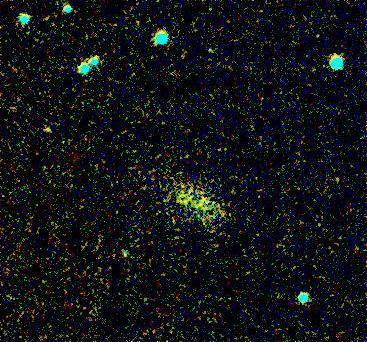star: (34, 117, 64, 147)
